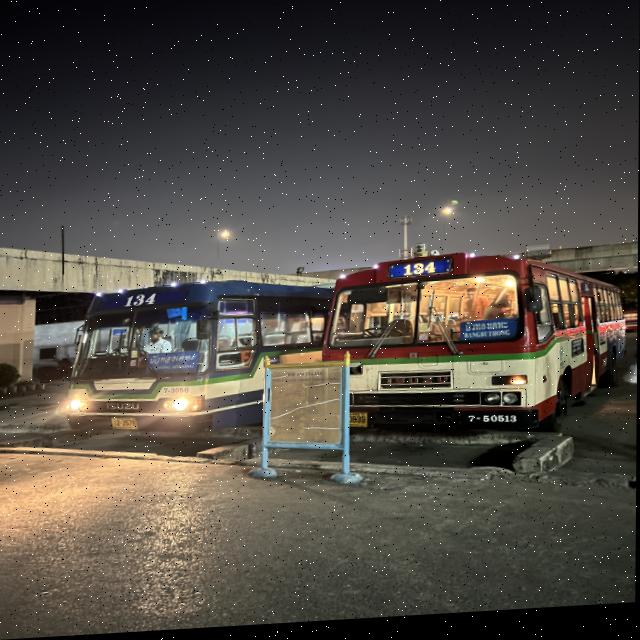BMTA-bus: (323, 258, 625, 487), (70, 284, 333, 437)
Bus Line Number: (397, 266, 445, 282), (124, 292, 157, 310)
Bus Side Number: (467, 418, 525, 432), (162, 387, 192, 399)
Destination Sign: (147, 351, 202, 377), (461, 324, 523, 347)
